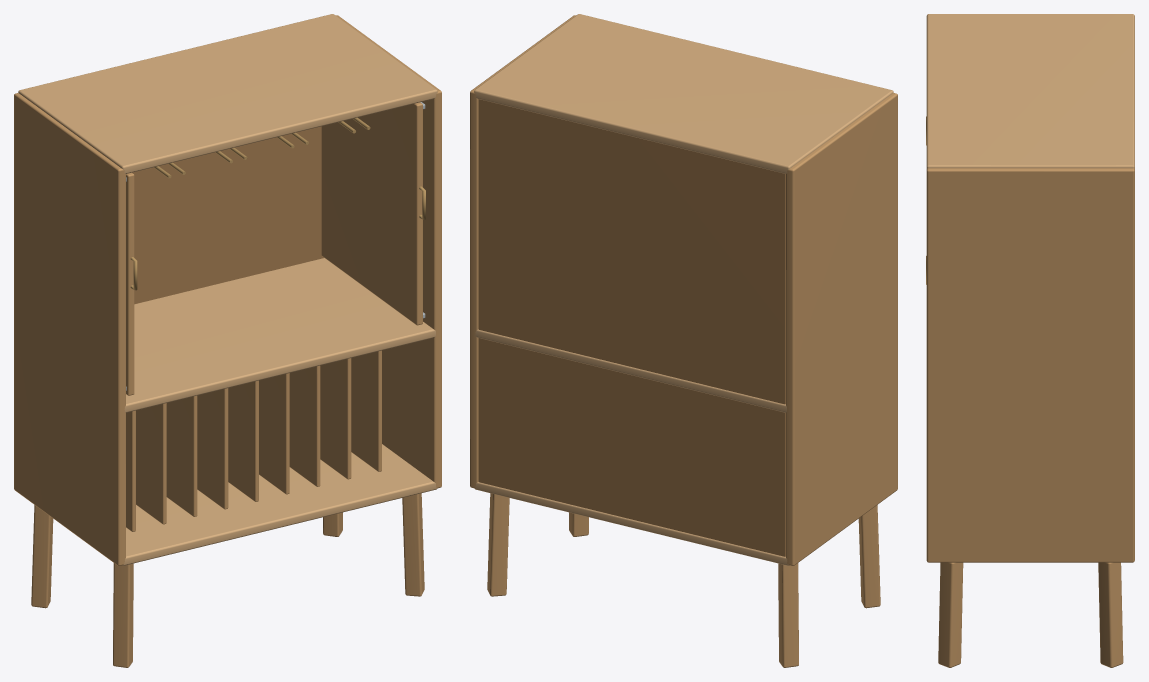
Rendered from bar-cabinet.glb.
The picture shows the model from 3 angles, left to right: view 1: azimuth 30°, elevation 25°; view 2: azimuth 150°, elevation 25°; view 3: azimuth 270°, elevation 25°; orthographic projection.
Visible parts, largest first — view 1: catalog_surface_RealismUV; view 2: catalog_surface_RealismUV; view 3: catalog_surface_RealismUV.
Part boxes in pixels (left/top/right/bottom): catalog_surface_RealismUV: left=14, top=14, right=441, bottom=667; catalog_surface_RealismUV: left=470, top=14, right=897, bottom=667; catalog_surface_RealismUV: left=926, top=14, right=1134, bottom=667.
Bounding box in the file's own units: 0.96 × 1.44 × 0.54.
